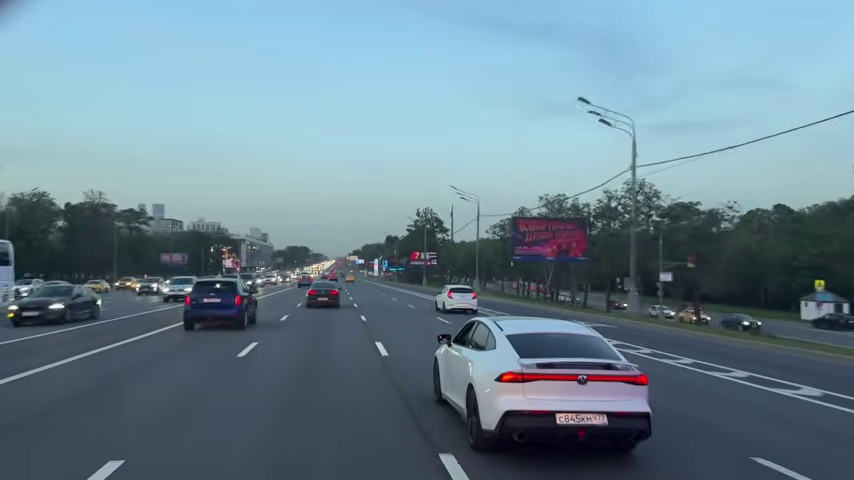apagada: (573, 91, 610, 128), (574, 92, 599, 122), (574, 92, 594, 113), (448, 184, 467, 201)
